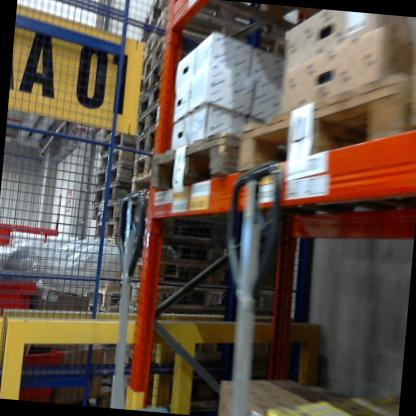pallet: (234, 55, 416, 208), (126, 7, 307, 91), (147, 117, 287, 213), (119, 271, 304, 334), (133, 0, 298, 67), (126, 232, 260, 270), (136, 256, 264, 290), (130, 211, 252, 244), (141, 31, 211, 88), (95, 124, 146, 162), (134, 59, 177, 104), (397, 31, 416, 132), (89, 180, 141, 211), (132, 124, 171, 165), (97, 144, 144, 178), (94, 164, 138, 196), (85, 282, 127, 313), (132, 147, 165, 183), (134, 87, 167, 122), (89, 203, 133, 229), (127, 176, 166, 204), (88, 218, 129, 241), (134, 107, 162, 140)
pallet_truck: (203, 147, 295, 416), (88, 166, 172, 409)
small_load_carrier: (0, 339, 72, 403), (0, 272, 30, 322)
